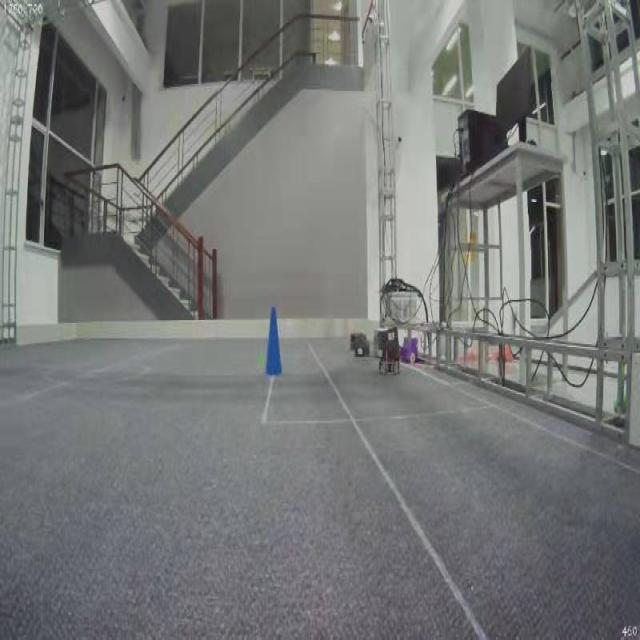cone: (264, 304, 282, 374)
